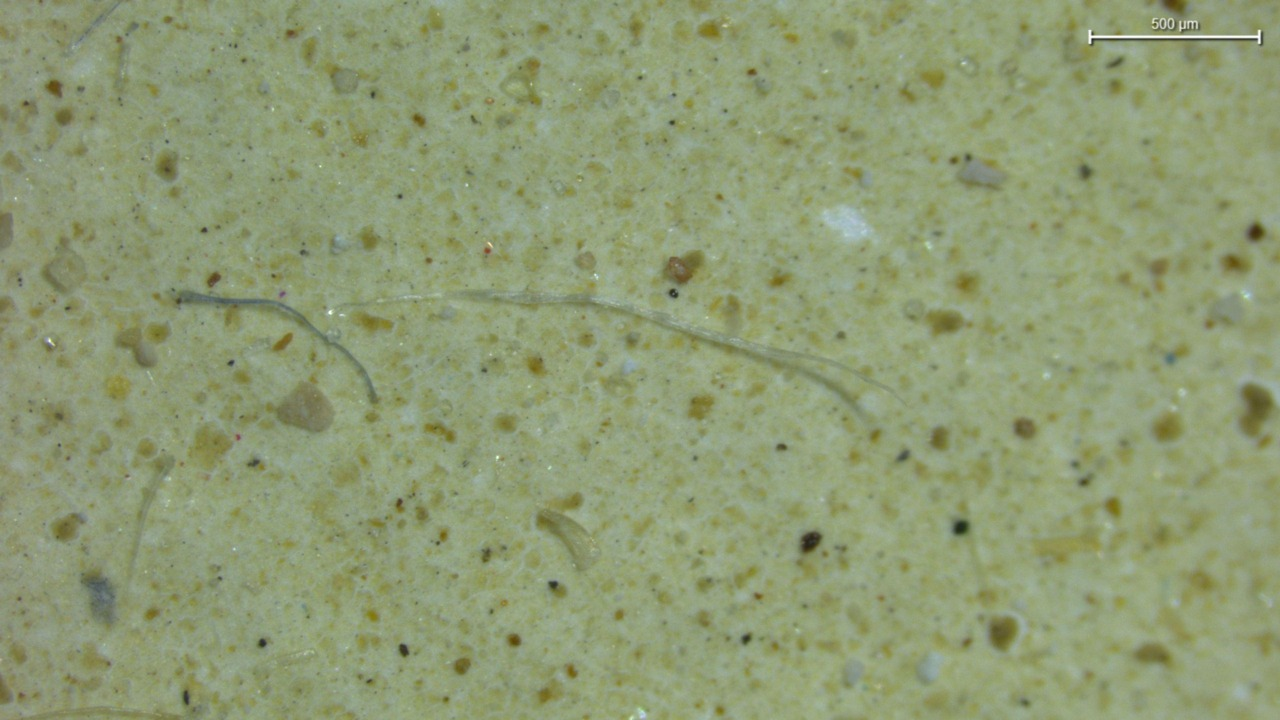microplastic_fragment: (536, 508, 598, 570), (276, 382, 333, 432), (42, 237, 86, 293), (116, 328, 158, 367), (332, 68, 358, 92)
